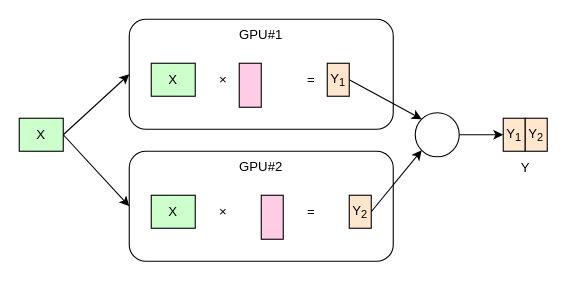
Image size: 567x281. Some labels were removed from this diagram. The shapes that lost their labels are listed below. From the top down, each one's centre as x and y in pixels, then its label:
At pixel 249 84: "W 1".
At pixel 436 134: "拼接".
At pixel 271 216: "W 2".
